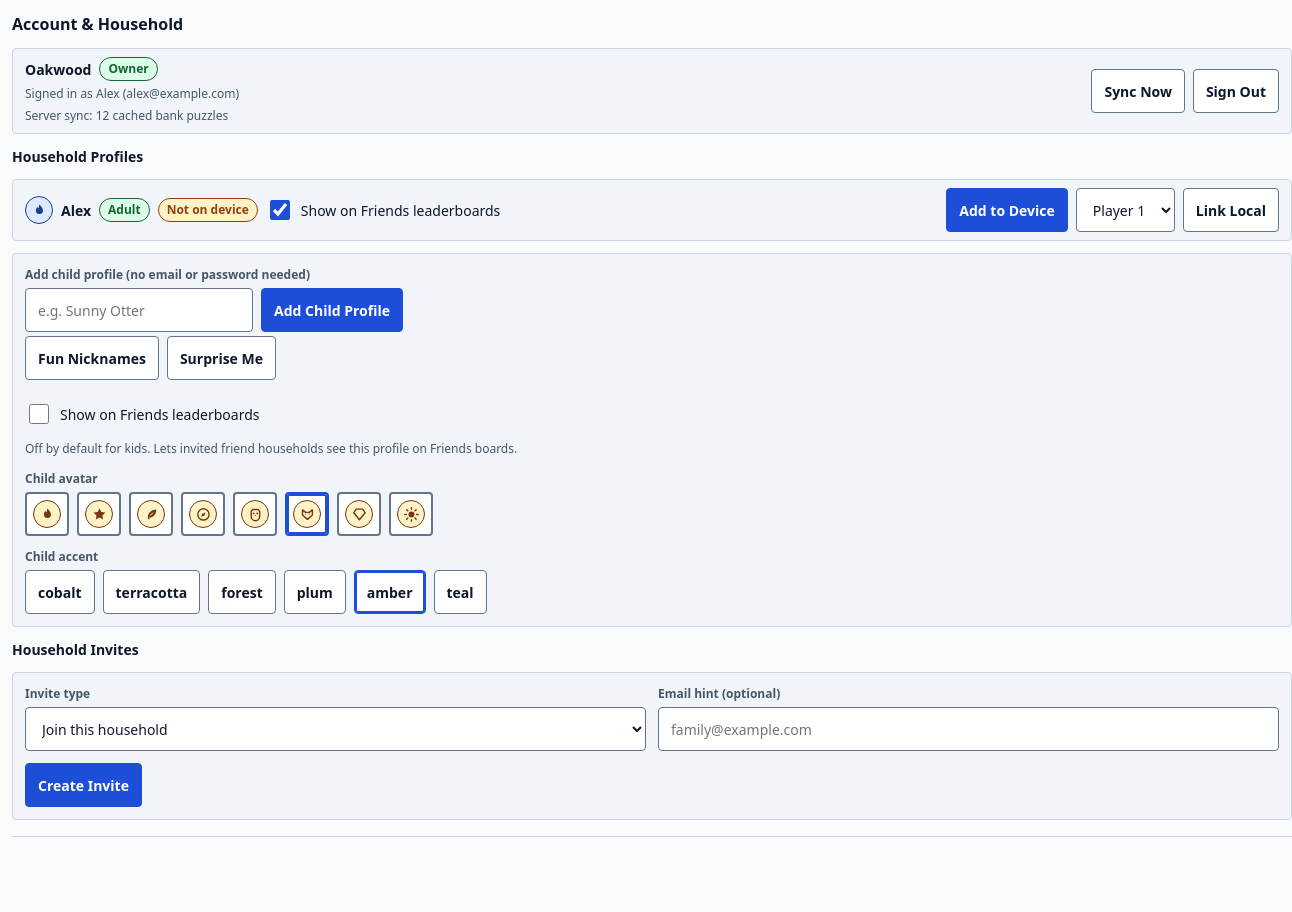
Test case: AccountHouseholdSection › prefills invite token in Redeem Invite mode and supports child profile creation & linking when signed in
Later steps or results of the test are not shown.
Expected: the text "Server sync: 12 cached bank puzzles" is shown, [25,107,239,125]
Click the button "Link Local" at (1231, 210), box [1183,188,1279,232]
Type "Sammy" into the field labelled "Add child profile (no email or password needed)" at (139, 310), box [25,288,253,332]
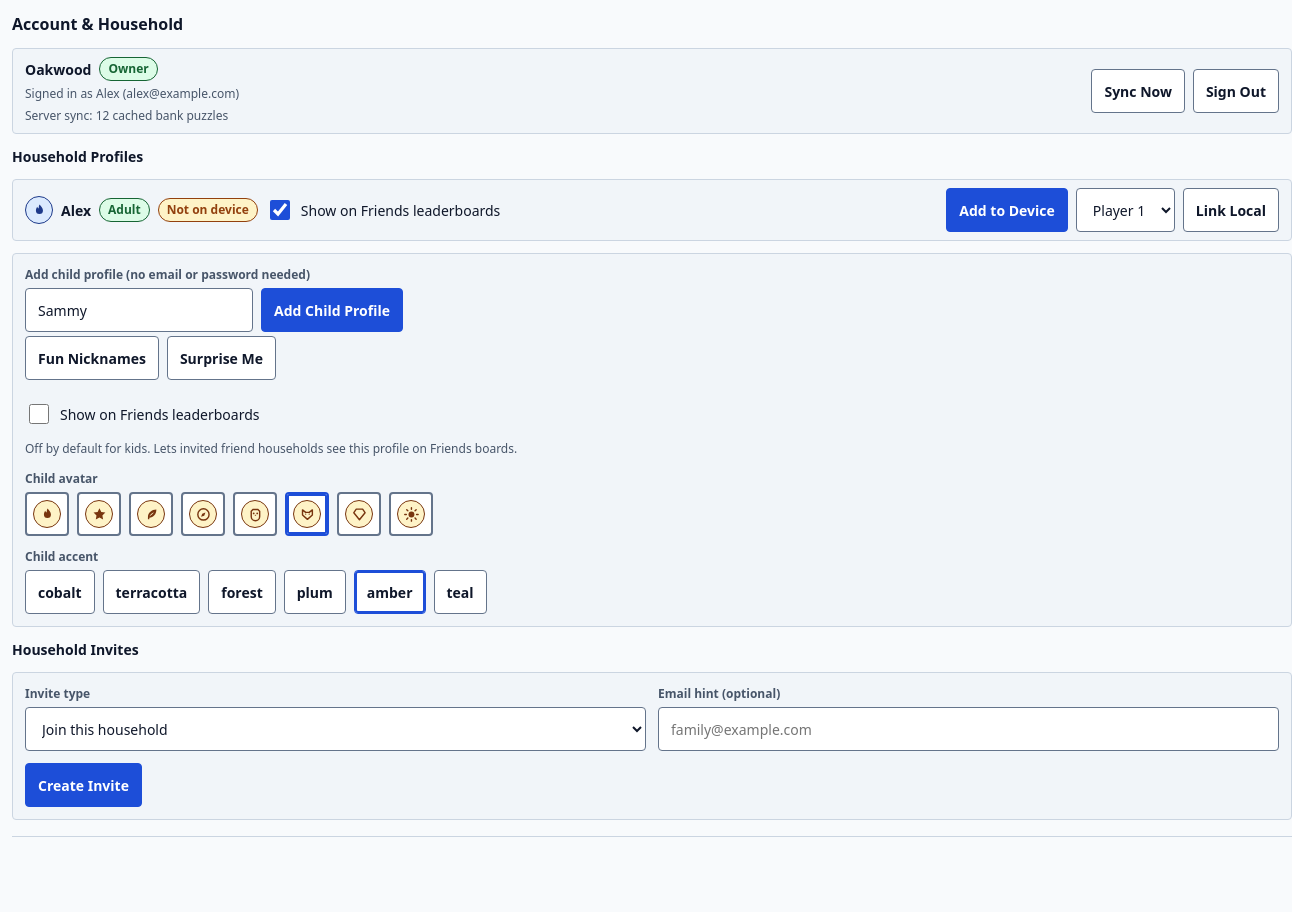
Click the button "Add Child Profile" at (332, 310), box [261,288,403,332]
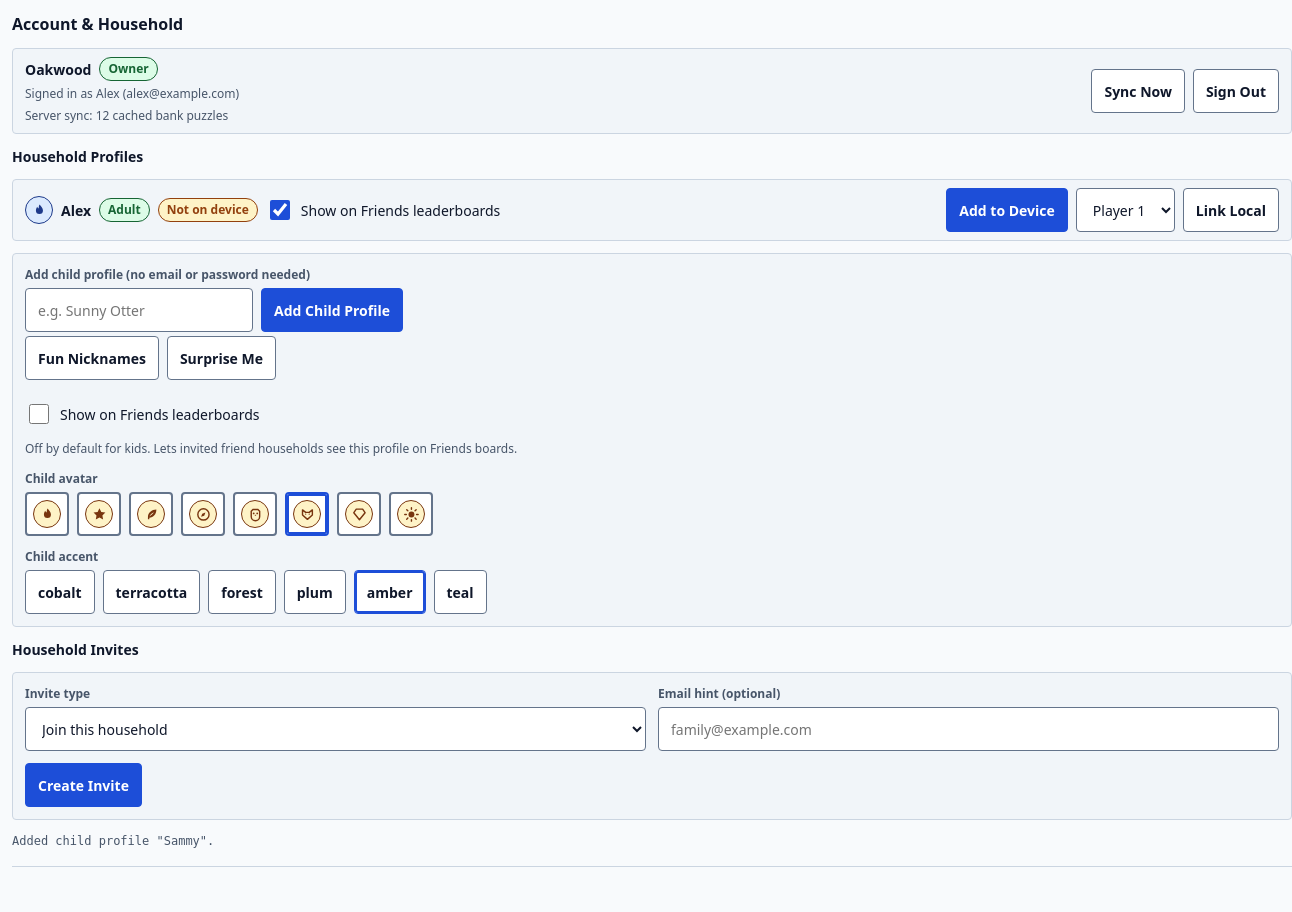
Expected: the text "Added child profile \"Sammy\"." is shown, [12,834,214,848]
